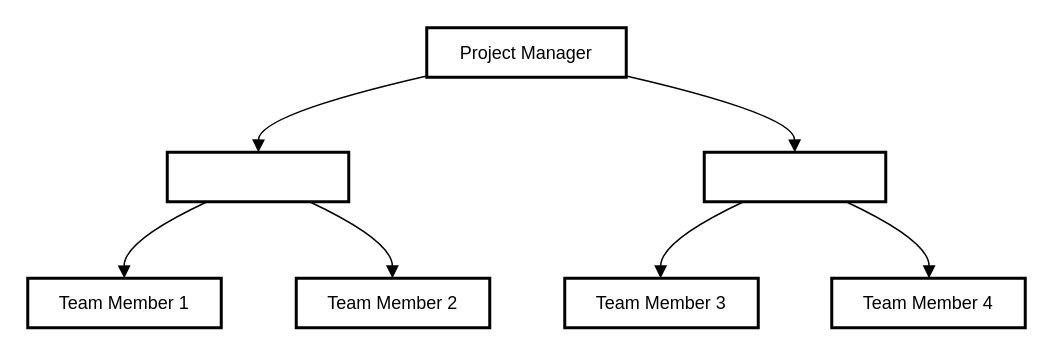
Image size: 1052x354. Some labels were removed from this diagram. Each missing label, with the centre of its shape:
Team Leader 1: the point at 257,176
Team Leader 2: the point at 794,176
